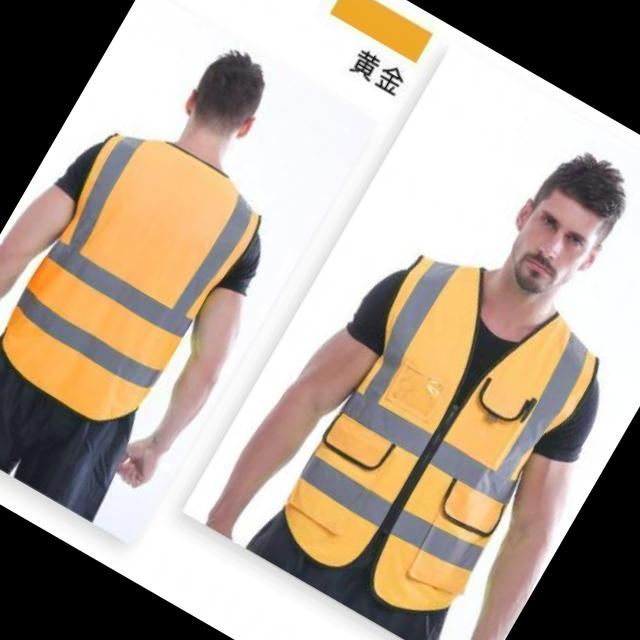safety_vest: (250, 226, 620, 640), (0, 103, 276, 444)
vehicle: (194, 66, 640, 640), (0, 0, 377, 546)
